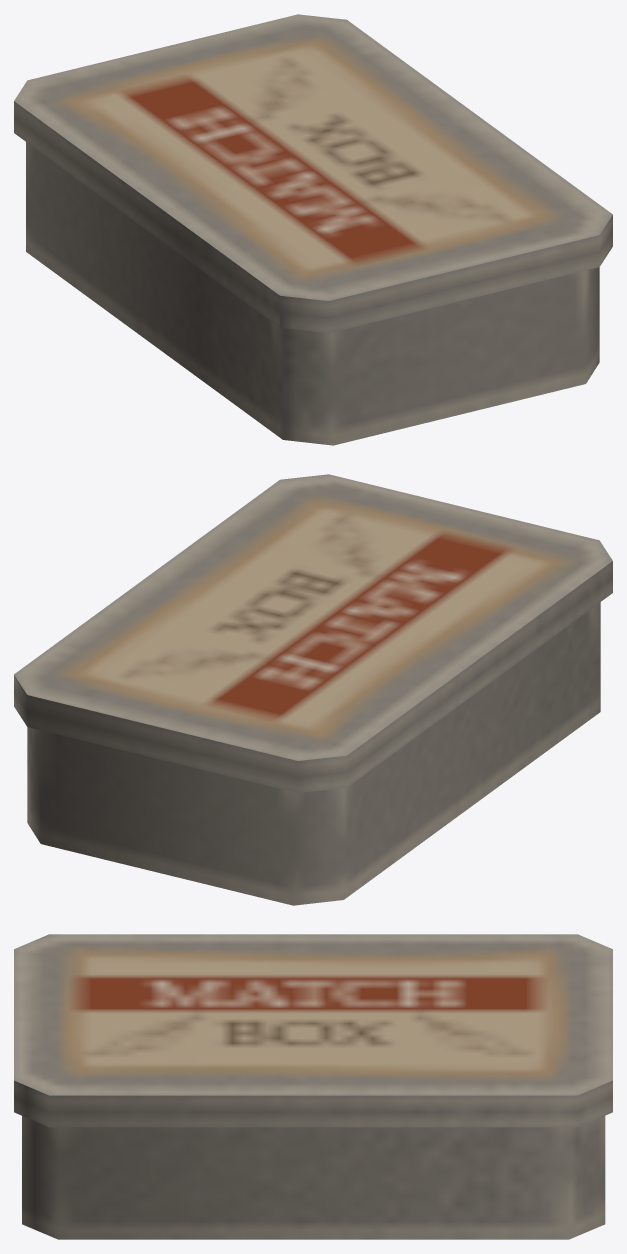
File: SM_MatchBox.fbx
3 views of the same model, one above another, from view 1: azimuth 30°, elevation 25°; view 2: azimuth 150°, elevation 25°; view 3: azimuth 270°, elevation 25° (orthographic).
Visible parts, largest first — view 1: MatchBoxTop, MatchBox; view 2: MatchBoxTop, MatchBox; view 3: MatchBoxTop, MatchBox.
Boxes of the visible parts, x1=… form: MatchBoxTop: x1=14, y1=14, x2=612, y2=332; MatchBox: x1=26, y1=142, x2=599, y2=445; MatchBoxTop: x1=14, y1=474, x2=612, y2=792; MatchBox: x1=27, y1=602, x2=600, y2=905; MatchBoxTop: x1=14, y1=934, x2=612, y2=1127; MatchBox: x1=22, y1=1116, x2=605, y2=1239.
Bounding box in the file's own units: 0.8711 × 0.3736 × 1.37.
